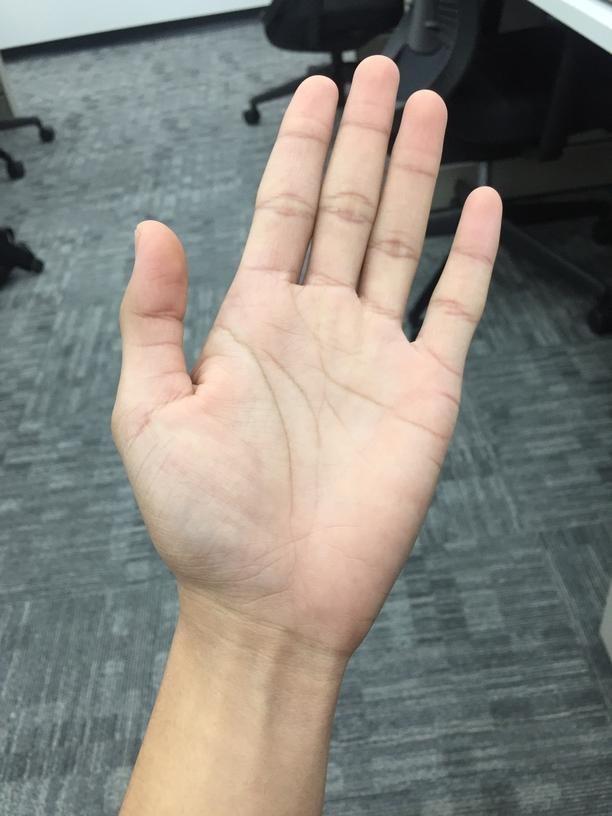hand: (112, 52, 504, 634)
